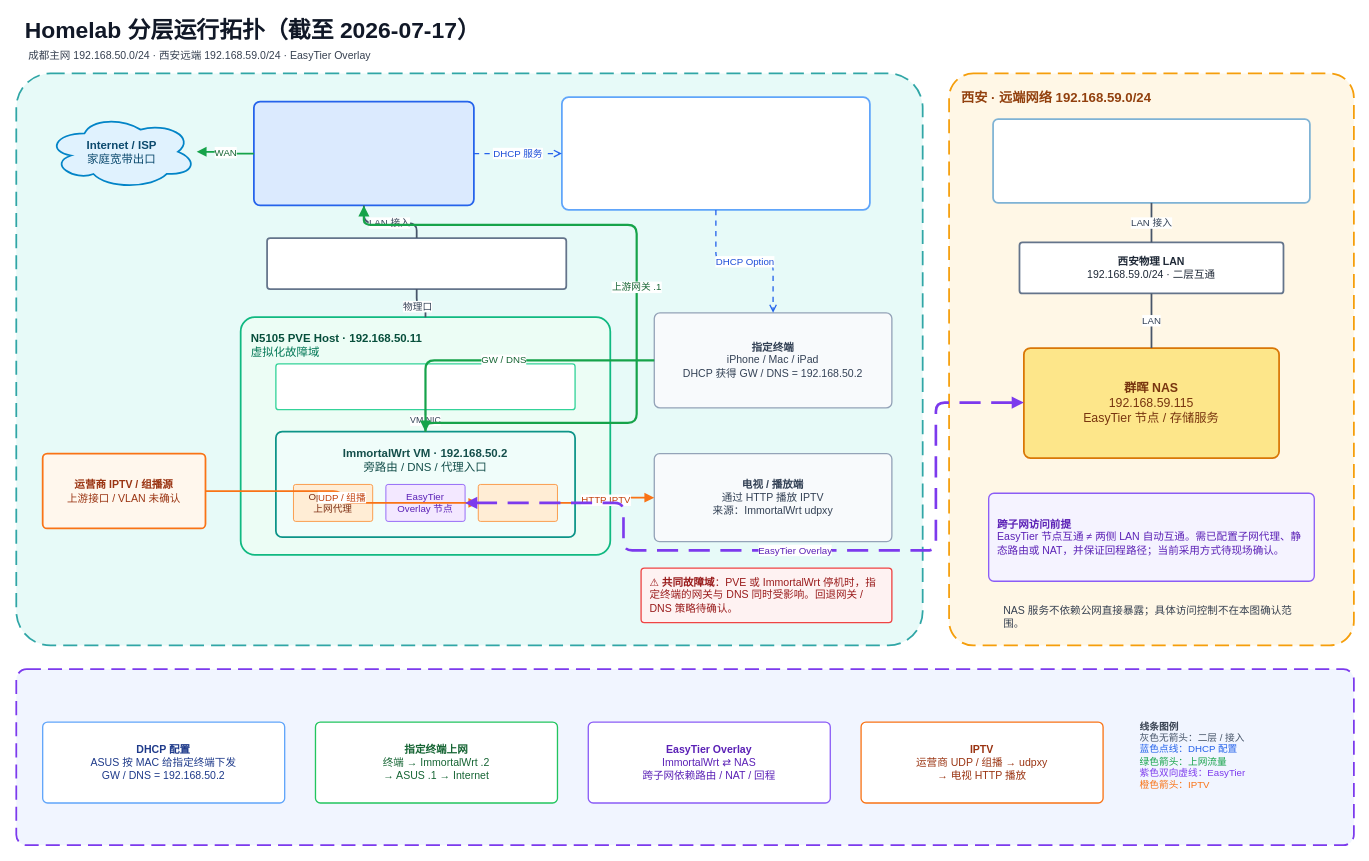
Image size: 1369x861. Some labels were removed from this diagram. The box of each missing label's shape, as (x1, y1, x2, y2) in pixels:
ASUS AX86U 192.168.50.1 主路由 / DHCP / 上游网关: (253, 100, 474, 206)
DHCP MAC 绑定策略 指定 iPhone / Mac / iPad GW / DNS = 192.168.50.2 配置关系，不代表流量路径: (561, 96, 870, 210)
PVE vmbr / vSwitch VM 二层接入: (275, 363, 575, 410)
udpxy UDP → HTTP: (477, 484, 557, 521)
关键路径 / 运维提示: (15, 668, 1354, 846)
成都 · 主网络 192.168.50.0/24: (15, 72, 923, 646)
物理 LAN / 交换网络 192.168.50.0/24 · 二层互通: (266, 237, 567, 290)
西安本地网关 / 路由 192.168.59.0/24: (992, 118, 1310, 203)
